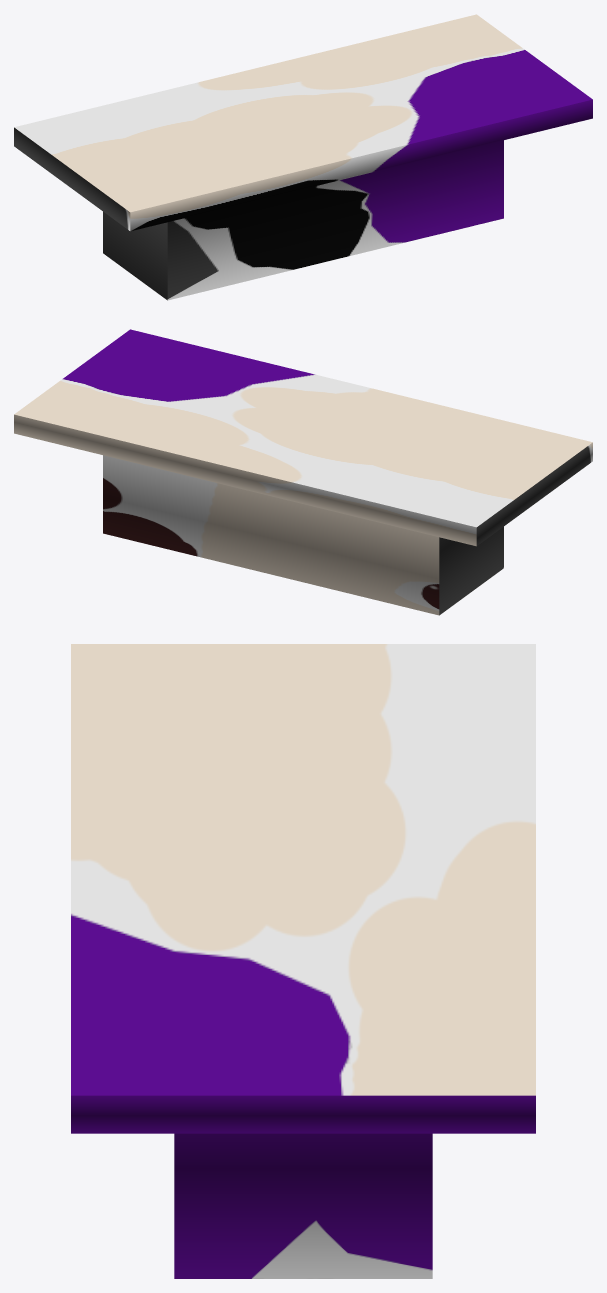
The model's file is mesa.fbx.
3 views of the same model, one above another, from view 1: azimuth 30°, elevation 25°; view 2: azimuth 150°, elevation 25°; view 3: azimuth 270°, elevation 25° (orthographic). The views are drawn at different scales.
Parts seen in each view (by area): view 1: mesa; view 2: mesa; view 3: mesa.
Boxes of the visible parts, x1=… form: mesa: x1=14, y1=14, x2=592, y2=300; mesa: x1=14, y1=329, x2=592, y2=615; mesa: x1=71, y1=644, x2=535, y2=1278.
Size of the model in its own units: 44.06 by 11.15 by 19.18.
